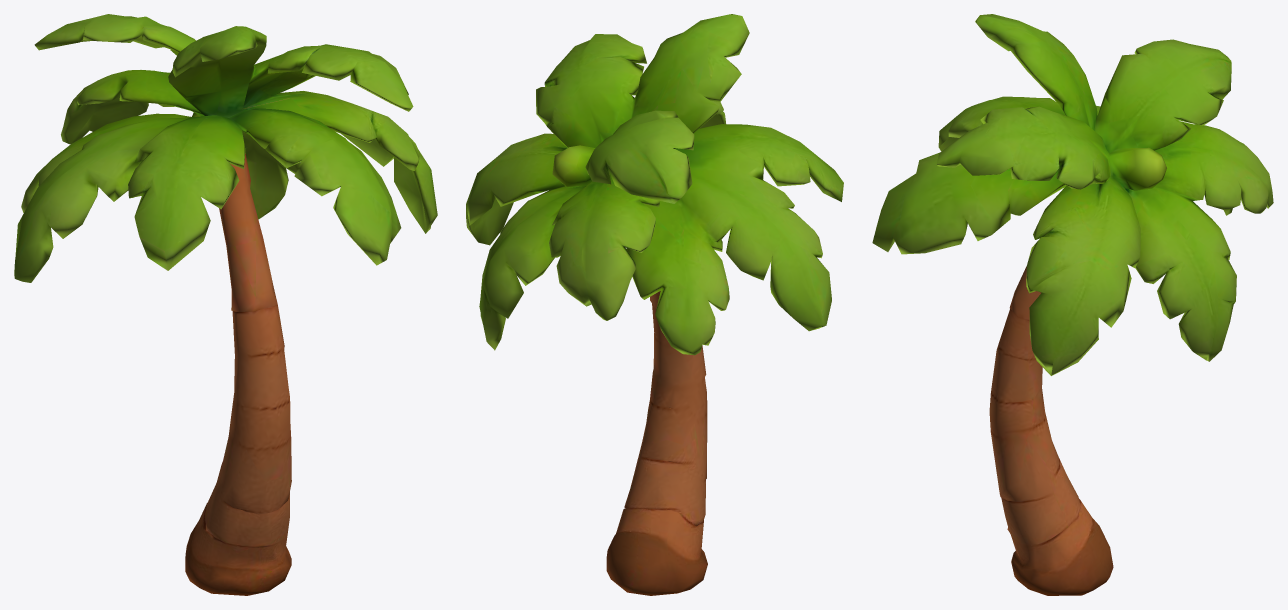
The model's file is prop-palm.glb.
3 renders of one model, left to right at view 1: azimuth 30°, elevation 25°; view 2: azimuth 150°, elevation 25°; view 3: azimuth 270°, elevation 25°, orthographic. The views are drawn at different scales.
Parts seen in each view (by area): view 1: tripo_node_85ec8d3e-bd51-4152-9d81-044b4170d7e8; view 2: tripo_node_85ec8d3e-bd51-4152-9d81-044b4170d7e8; view 3: tripo_node_85ec8d3e-bd51-4152-9d81-044b4170d7e8.
Boxes of the visible parts, x1,y1,x2,y2 form: tripo_node_85ec8d3e-bd51-4152-9d81-044b4170d7e8: (14, 14, 437, 595); tripo_node_85ec8d3e-bd51-4152-9d81-044b4170d7e8: (466, 14, 843, 595); tripo_node_85ec8d3e-bd51-4152-9d81-044b4170d7e8: (872, 14, 1273, 595).
Size of the model in its own units: 0.696 by 0.9808 by 0.6527.
1 material, 1 textured.
